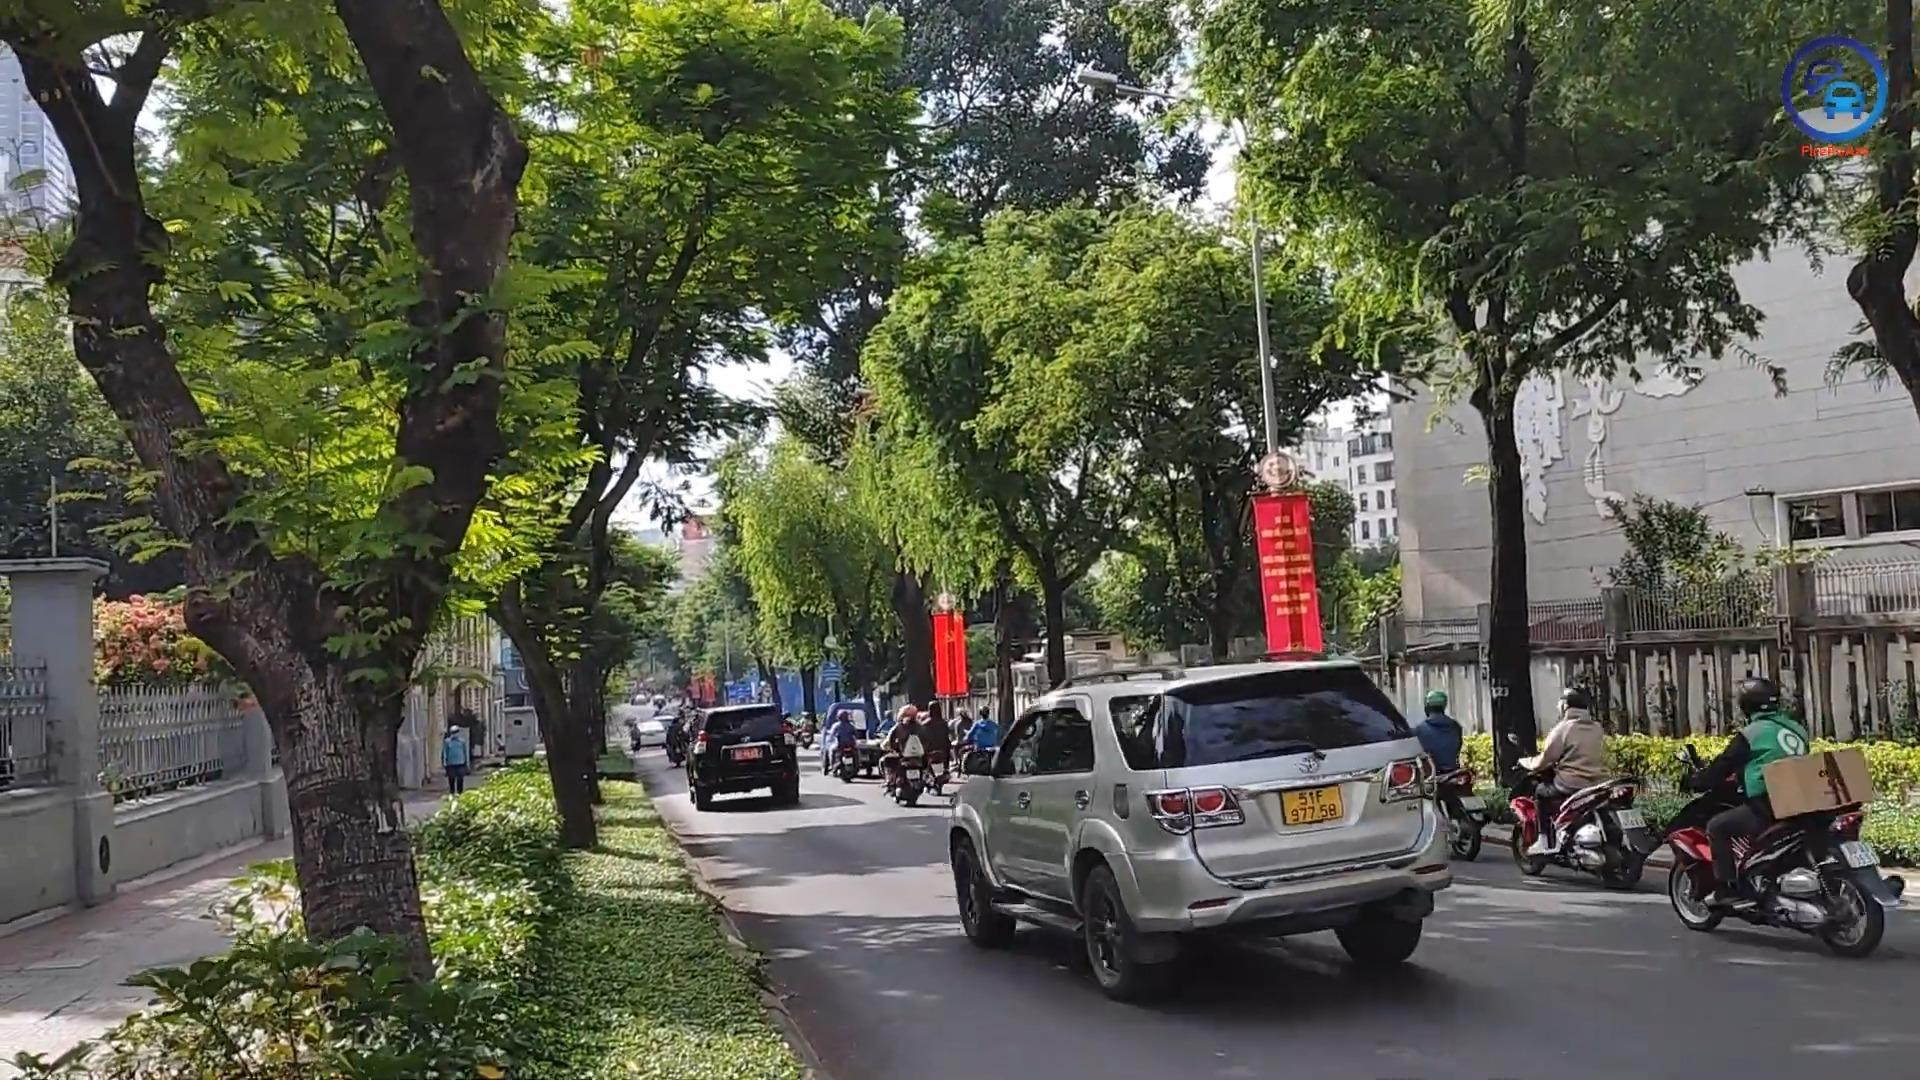bien_so: (1278, 783, 1347, 827), (1838, 837, 1882, 870), (1615, 806, 1649, 830)
